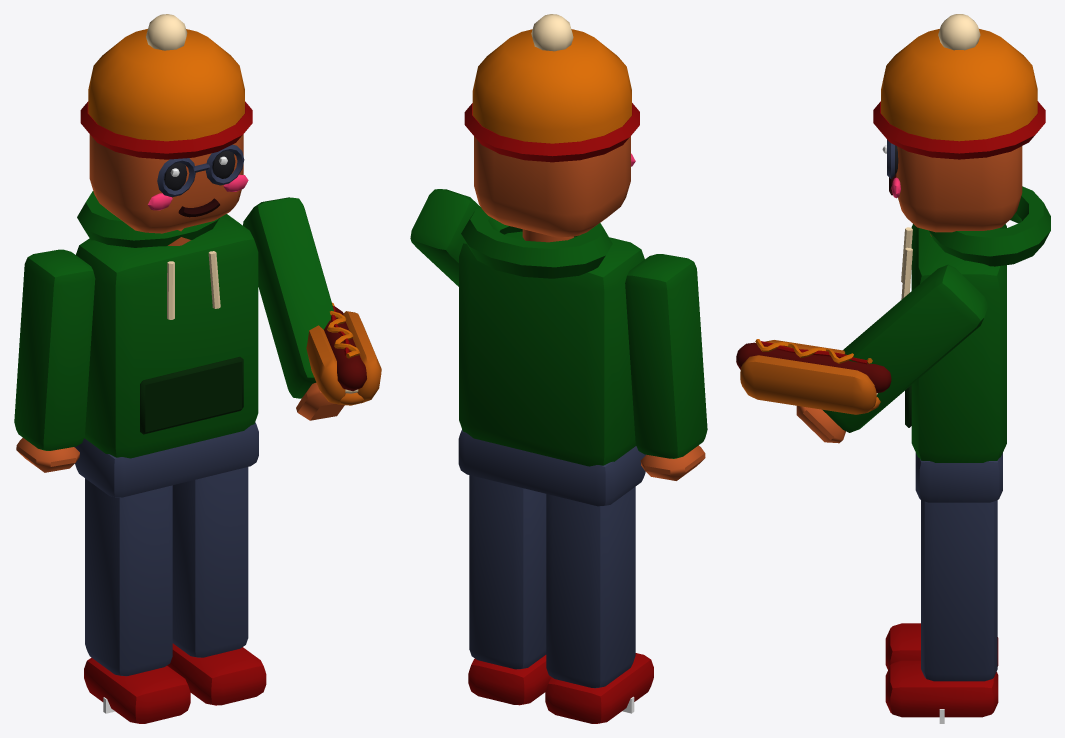
The model's file is CustomerC.obj.
3 views of the same model, side by side, from view 1: azimuth 30°, elevation 25°; view 2: azimuth 150°, elevation 25°; view 3: azimuth 270°, elevation 25° (orthographic).
Visible parts, largest first — view 1: CustomerC; view 2: CustomerC; view 3: CustomerC.
Boxes of the visible parts, <box> form: CustomerC: <box>14,14,381,723</box>; CustomerC: <box>410,14,707,723</box>; CustomerC: <box>736,14,1050,723</box>.
Size of the model in its own units: 2.49 by 5.61 by 2.37.
